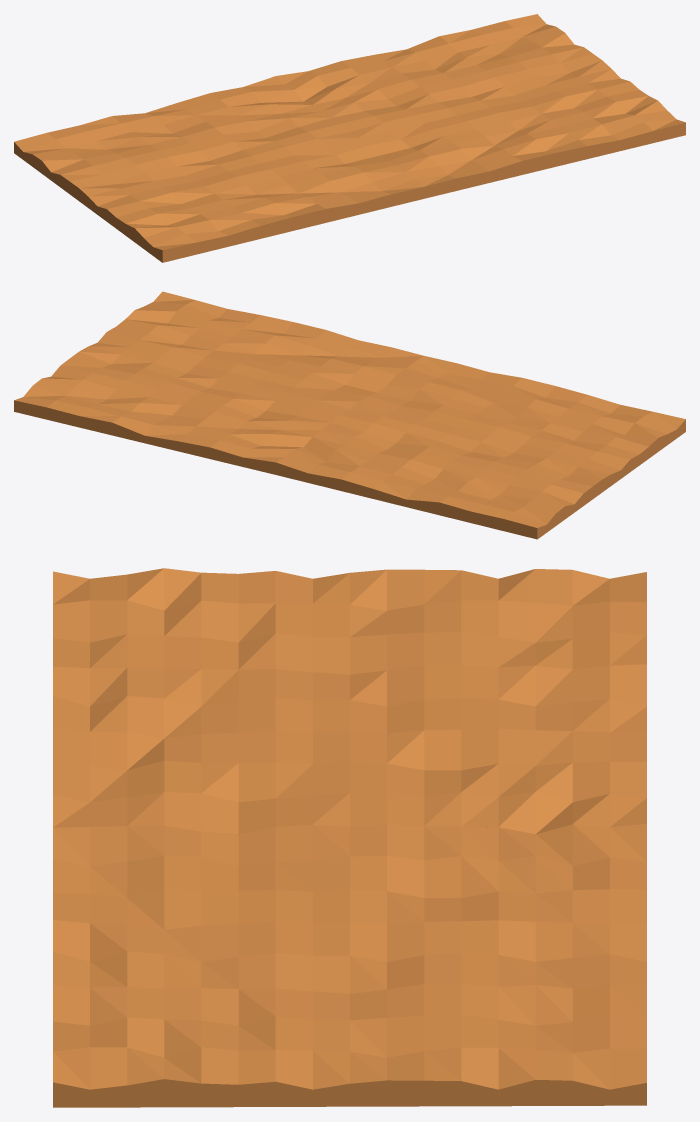
The model's file is Camino 1.fbx.
The picture shows the model from 3 angles, top to bottom: view 1: azimuth 30°, elevation 25°; view 2: azimuth 150°, elevation 25°; view 3: azimuth 270°, elevation 25°; orthographic projection. The views are drawn at different scales.
Visible parts, largest first — view 1: Camino; view 2: Camino; view 3: Camino.
Part boxes in pixels (bbox=[...]): Camino: bbox=[14, 14, 685, 262]; Camino: bbox=[14, 291, 685, 539]; Camino: bbox=[53, 568, 646, 1107].
Size of the model in its own units: 784 by 20.55 by 385.
